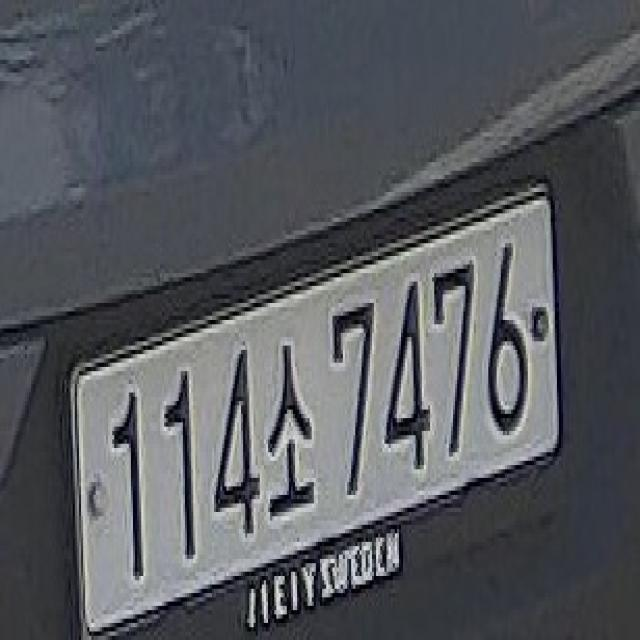plat: (67, 177, 562, 635)
